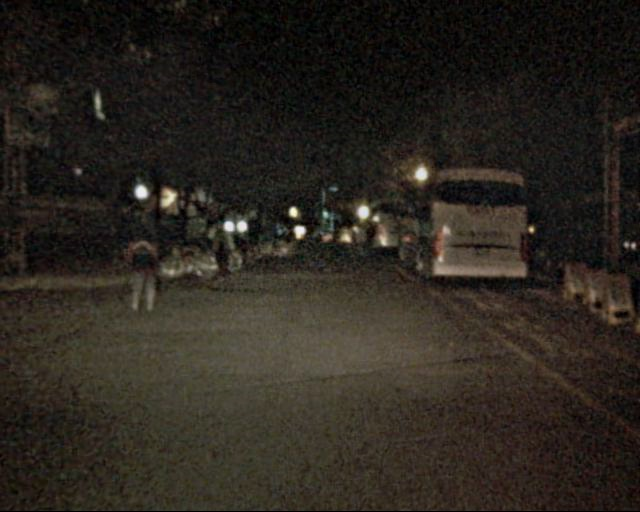person: (125, 216, 166, 316), (204, 217, 232, 286), (353, 223, 377, 264)
